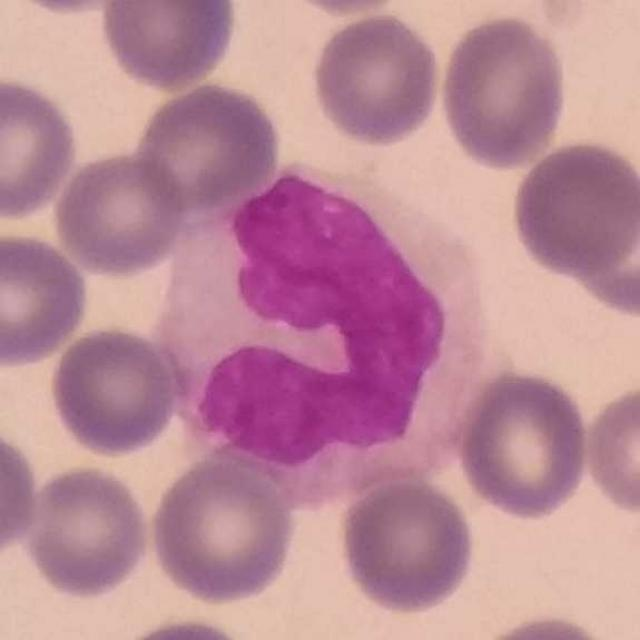Monocyte: (160, 158, 490, 492)
RBC: (146, 452, 300, 608), (435, 9, 572, 172), (453, 365, 593, 522), (130, 78, 285, 215), (334, 474, 480, 618), (507, 136, 640, 283), (308, 9, 446, 149), (19, 462, 155, 601), (50, 147, 190, 279), (47, 322, 181, 458), (95, 0, 241, 93), (0, 227, 92, 370), (559, 158, 639, 322), (0, 73, 81, 223), (579, 378, 640, 518), (0, 420, 42, 564), (468, 610, 626, 640), (104, 613, 260, 640), (2, 0, 148, 17)
